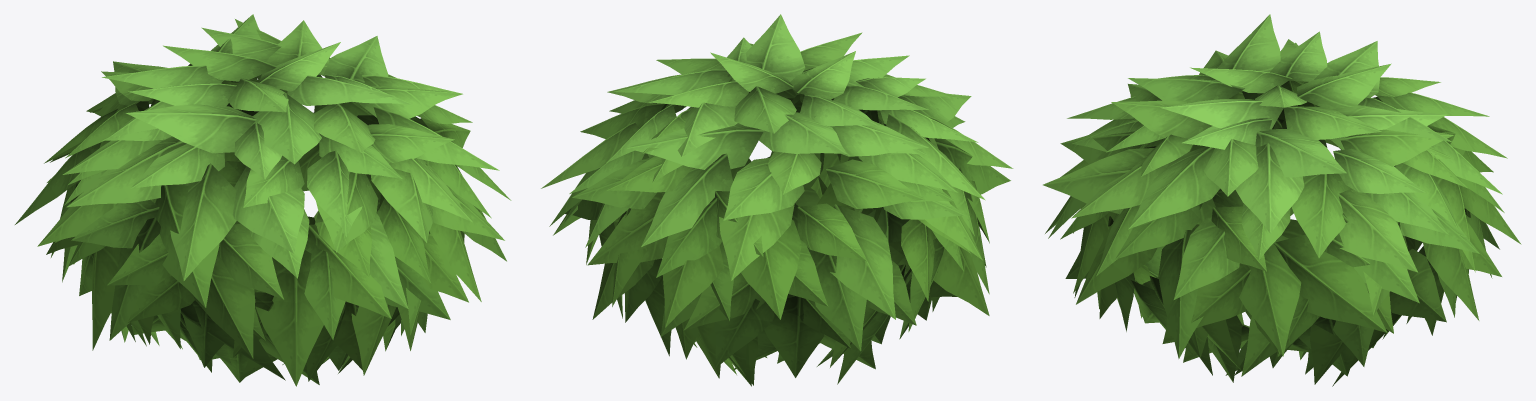
3 views of the same model, side by side, from view 1: azimuth 30°, elevation 25°; view 2: azimuth 150°, elevation 25°; view 3: azimuth 270°, elevation 25° (orthographic). The views are drawn at different scales.
Parts seen in each view (by area): view 1: grid_1_leaves_LOD0; view 2: grid_1_leaves_LOD0; view 3: grid_1_leaves_LOD0.
Boxes of the visible parts, x1=… form: grid_1_leaves_LOD0: x1=15, y1=14, x2=511, y2=386; grid_1_leaves_LOD0: x1=541, y1=14, x2=1013, y2=386; grid_1_leaves_LOD0: x1=1043, y1=14, x2=1521, y2=386.
Size of what is drawn, in the model's own units: 1.42 by 0.9701 by 1.46.
1 material, 1 textured.
